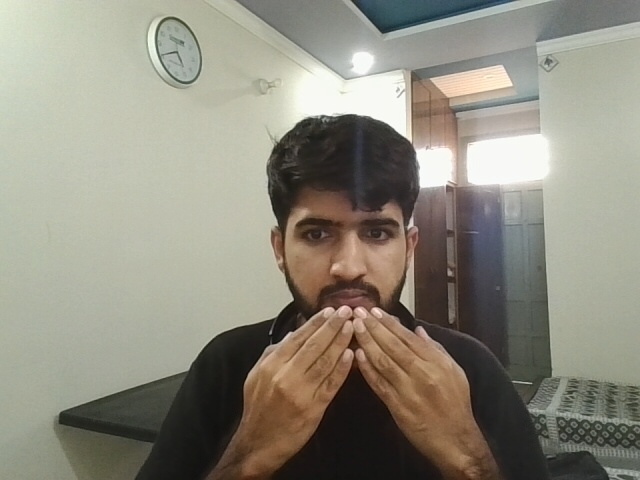Thanks: (221, 301, 500, 449)
